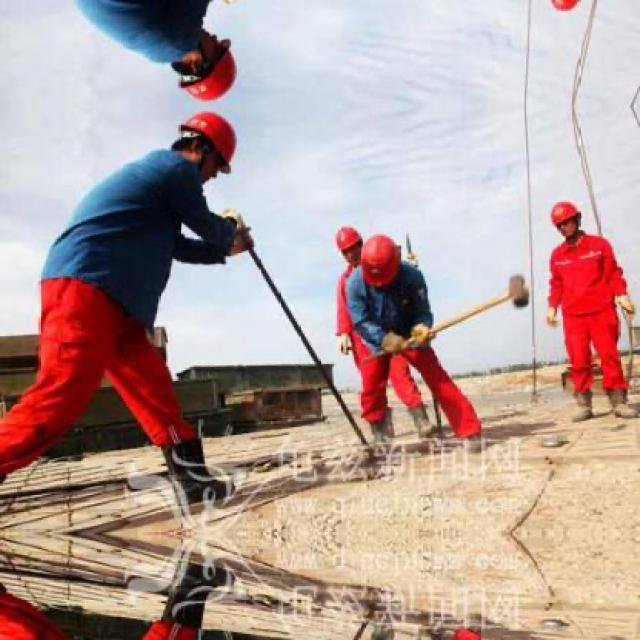helmet: (171, 108, 238, 176), (171, 37, 238, 105), (362, 233, 398, 285), (546, 198, 583, 240), (332, 222, 363, 267), (546, 0, 585, 17)
